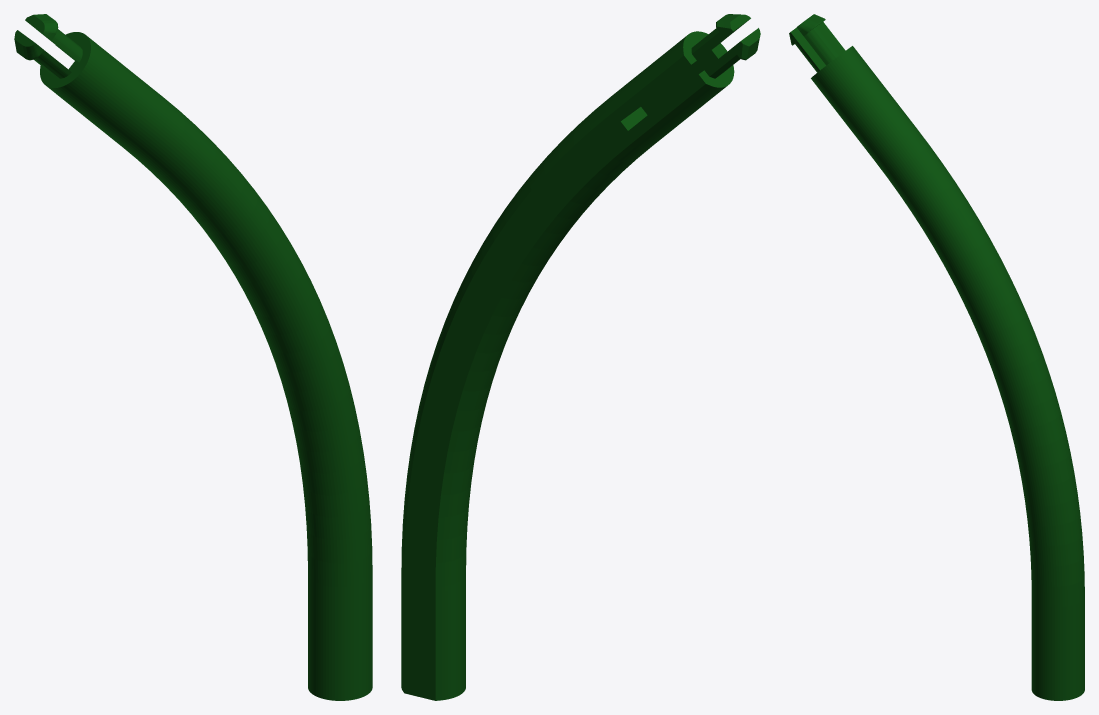
File: stem_3A_45_L.glb
3 views of the same model, side by side, from view 1: azimuth 30°, elevation 25°; view 2: azimuth 150°, elevation 25°; view 3: azimuth 330°, elevation 25° (orthographic). The views are drawn at different scales.
Parts seen in each view (by area): view 1: stem_3A_45_L; view 2: stem_3A_45_L; view 3: stem_3A_45_L.
Boxes of the visible parts, x1,y1,x2,y2 form: stem_3A_45_L: (14, 14, 372, 700); stem_3A_45_L: (401, 14, 760, 700); stem_3A_45_L: (789, 14, 1084, 700).
Bounding box in the file's own units: 0.0448 × 0.0912 × 0.00666.
